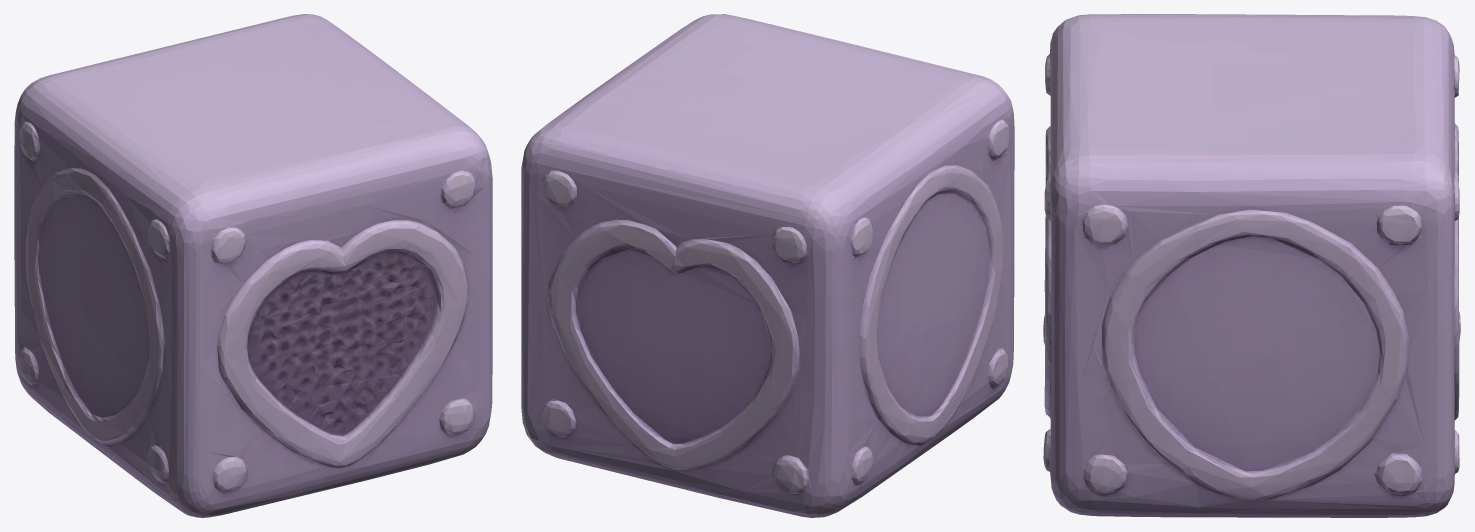
The model's file is speaker_stack.glb.
3 renders of one model, left to right at view 1: azimuth 30°, elevation 25°; view 2: azimuth 150°, elevation 25°; view 3: azimuth 270°, elevation 25°, orthographic. The views are drawn at different scales.
Parts seen in each view (by area): view 1: geometry_0; view 2: geometry_0; view 3: geometry_0.
Boxes of the visible parts, left/top/right/bottom form: geometry_0: left=14, top=14, right=492, bottom=517; geometry_0: left=521, top=14, right=1014, bottom=517; geometry_0: left=1043, top=14, right=1460, bottom=517.
Size of the model in its own units: 0.4937 by 0.4776 by 0.4903.
1 material, 1 textured.
